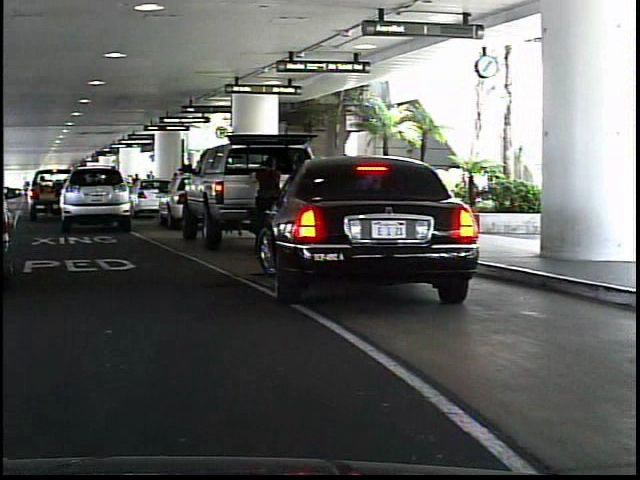person: (244, 150, 295, 254)
